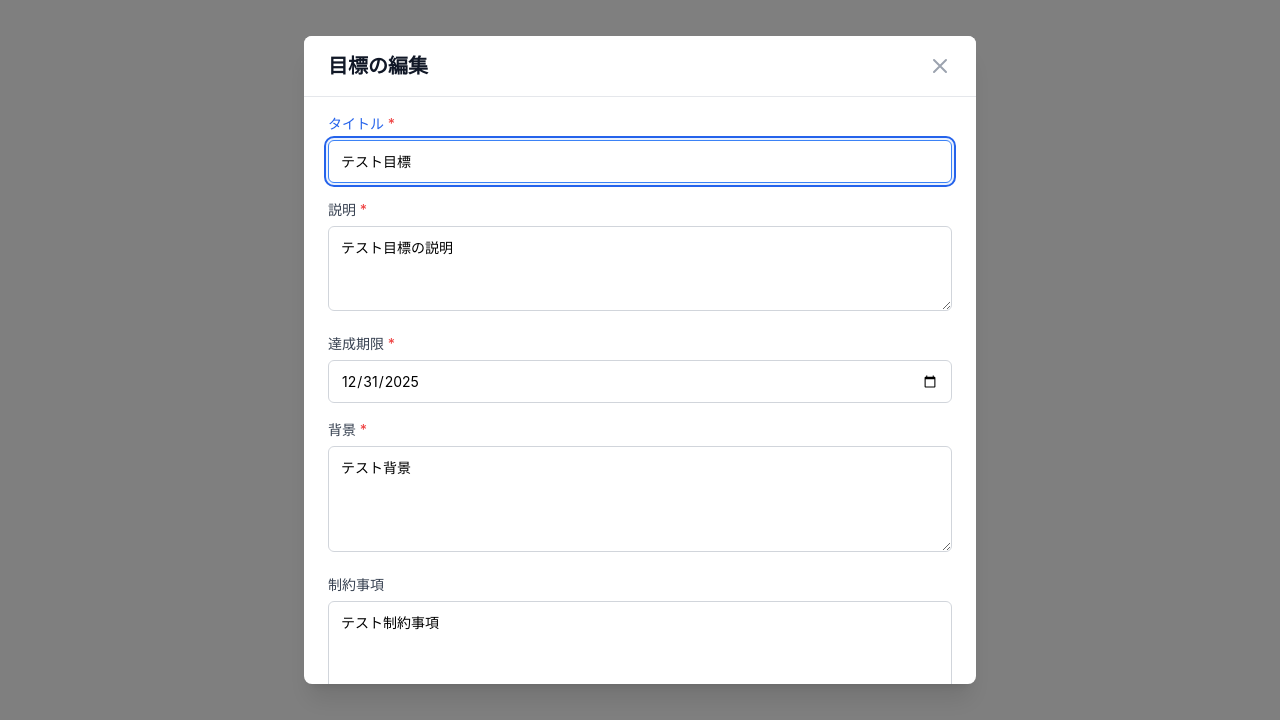
Test: EditModal › フォームバリデーション › バリデーションエラーがある場合、保存ボタンが無効化される
This screenshot has width=1280, height=720.
Clear the field labelled "タイトル *". click: (640, 162)
box: x1=328 y1=140 x2=952 y2=183
(page scrolled)
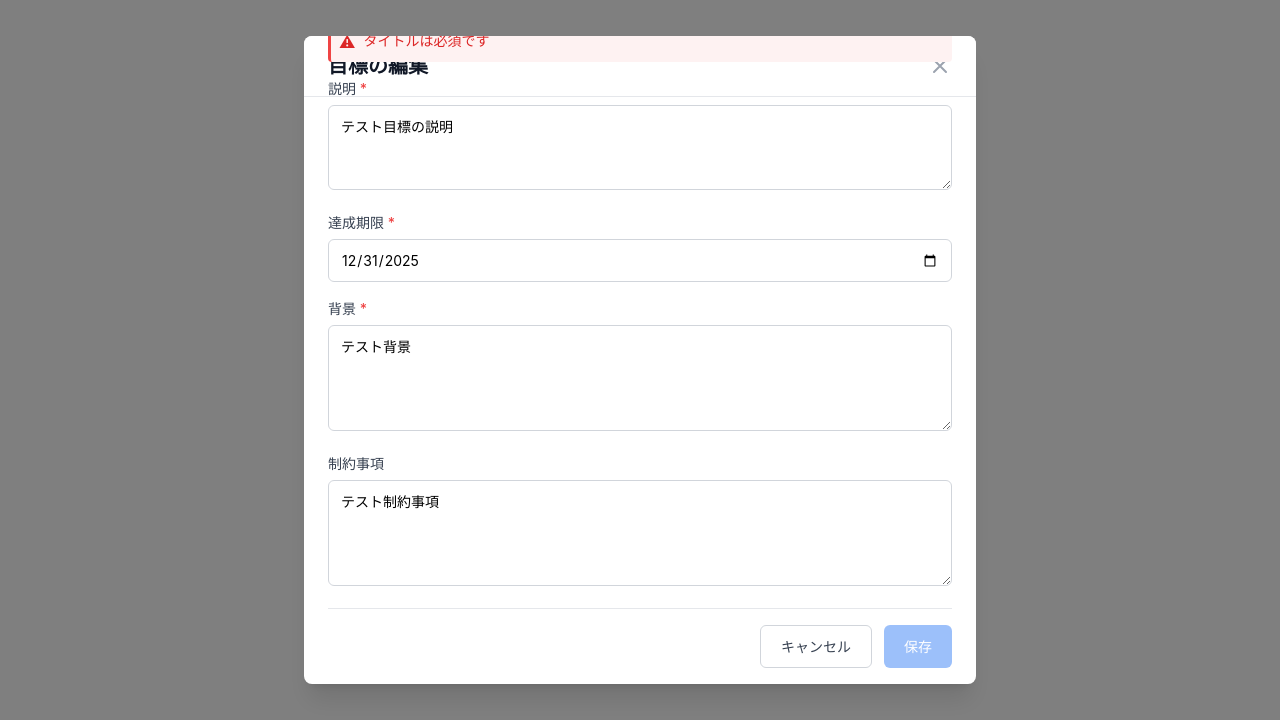
Expected: the button "保存" is disabled, x1=884 y1=625 x2=952 y2=668
